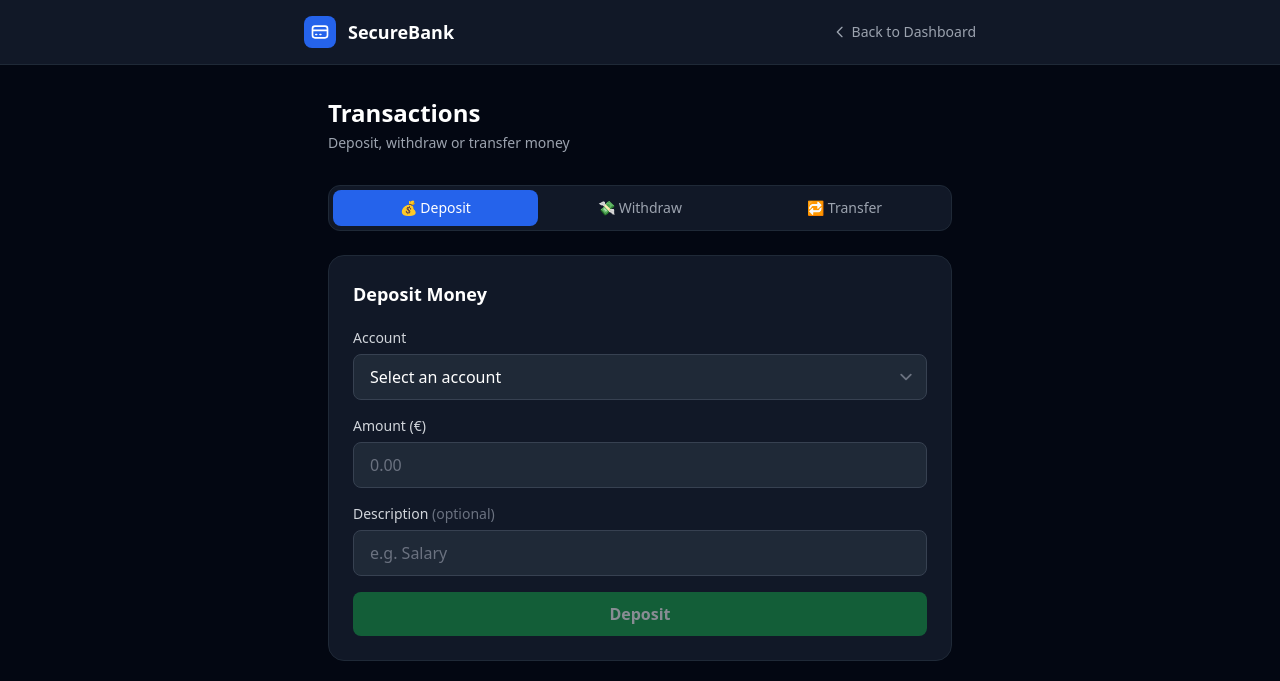
Test: Transfer page › shows an error when the receiver account is not found
Click the button with test id "transfer-tab".
click(845, 208)  # box [742,190,947,226]
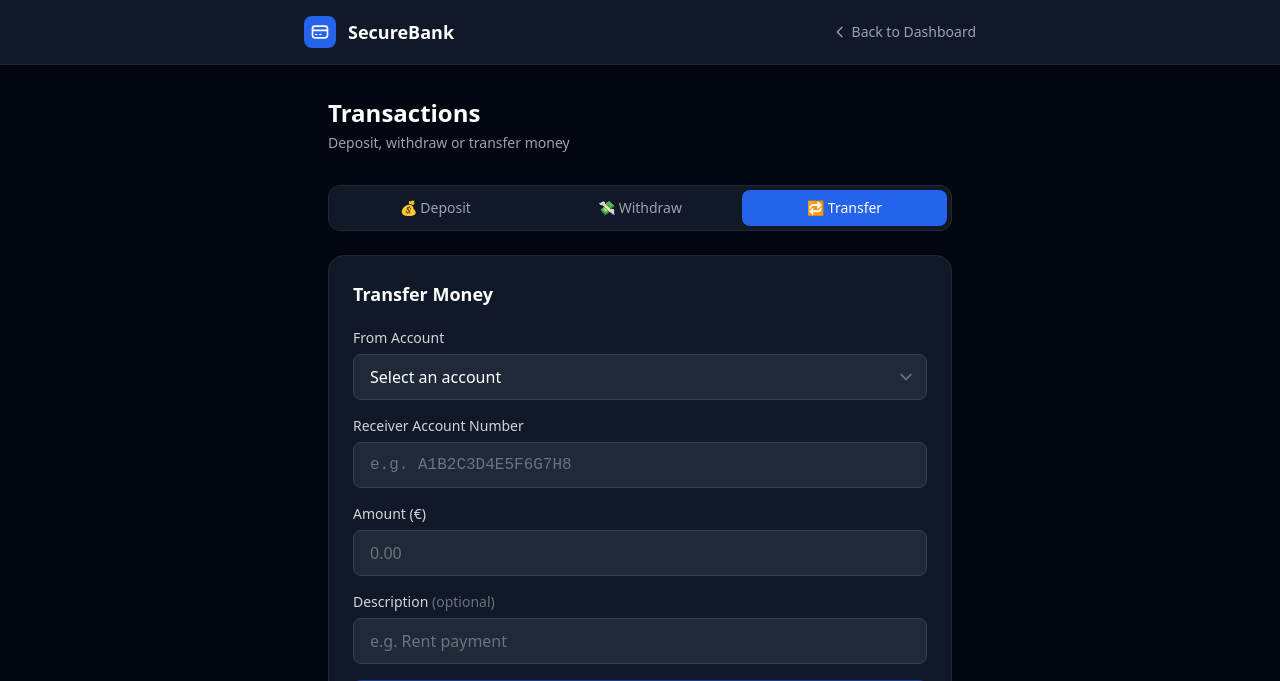
Select "CHECKING — ABCDEF1234567890 (€1,500.00)" in the dropdown with test id "transfer-account-select" at (640, 377), box [353,354,927,400]
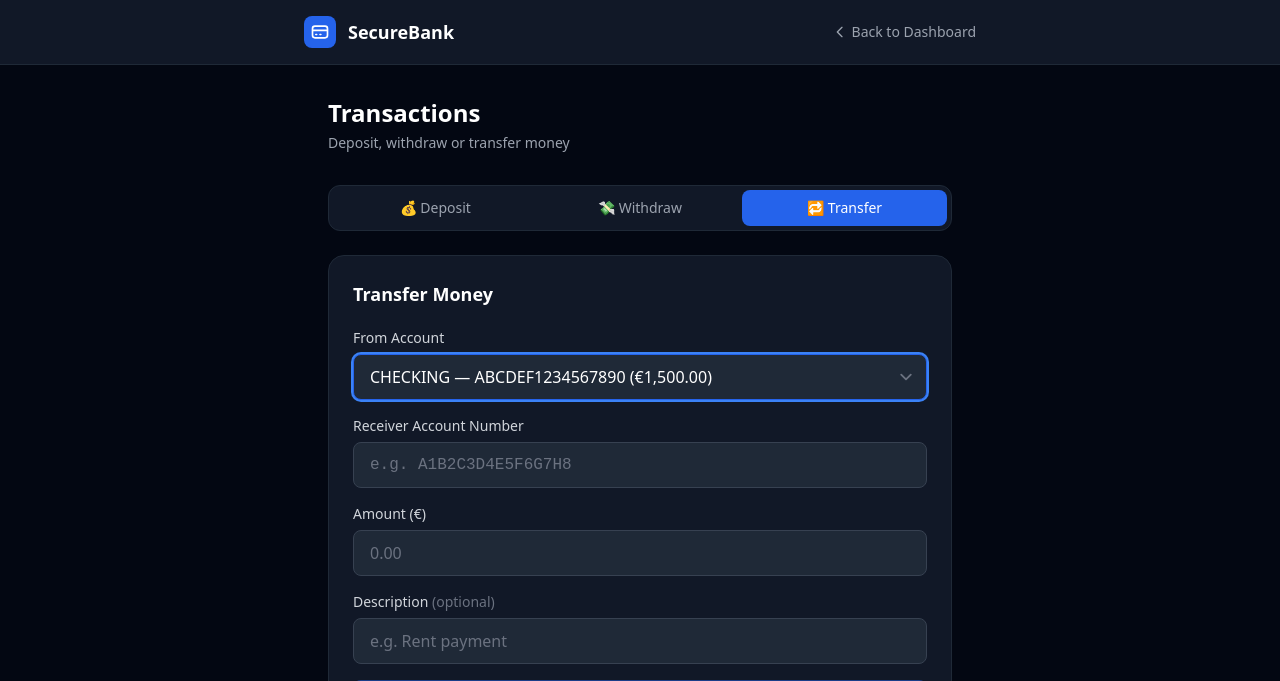
Type "AAAAAAAAAAAAAAAA" into the field with test id "transfer-receiver-input".
click(640, 465); type("AAAAAAAAAAAAAAAA")  # box [353,442,927,488]
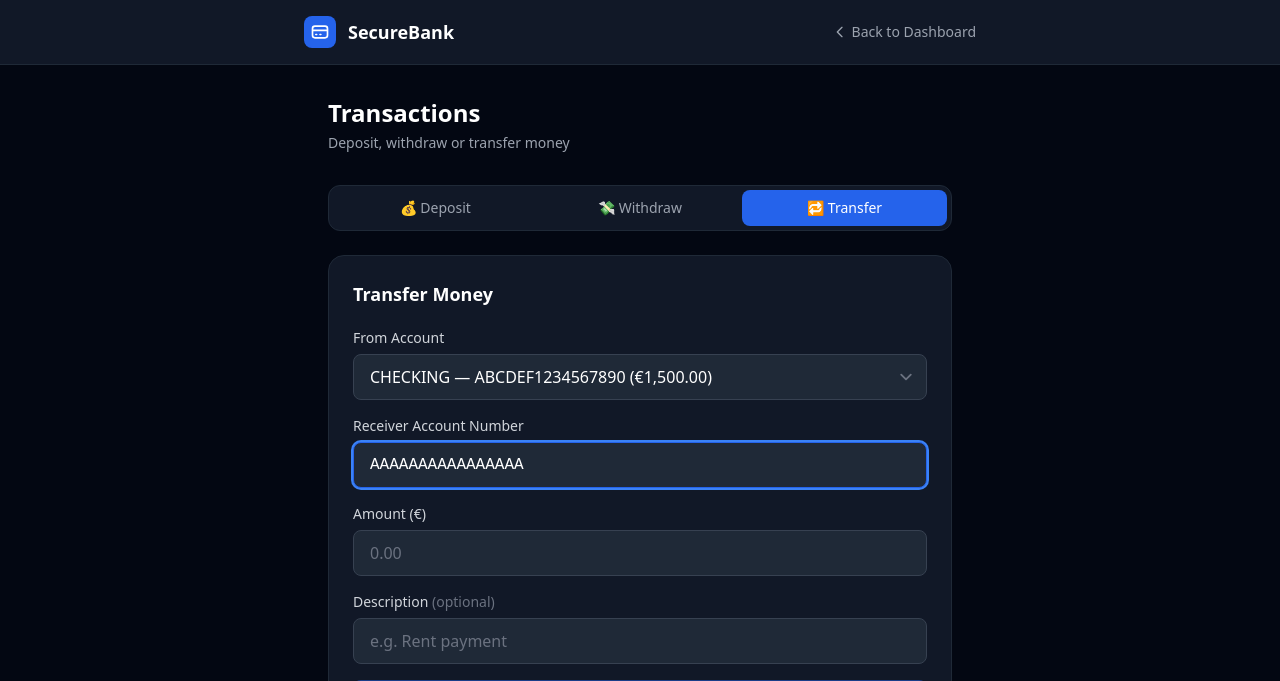
Type "50" into the number field with test id "transfer-amount-input".
click(640, 553); type("50")  # box [353,530,927,576]
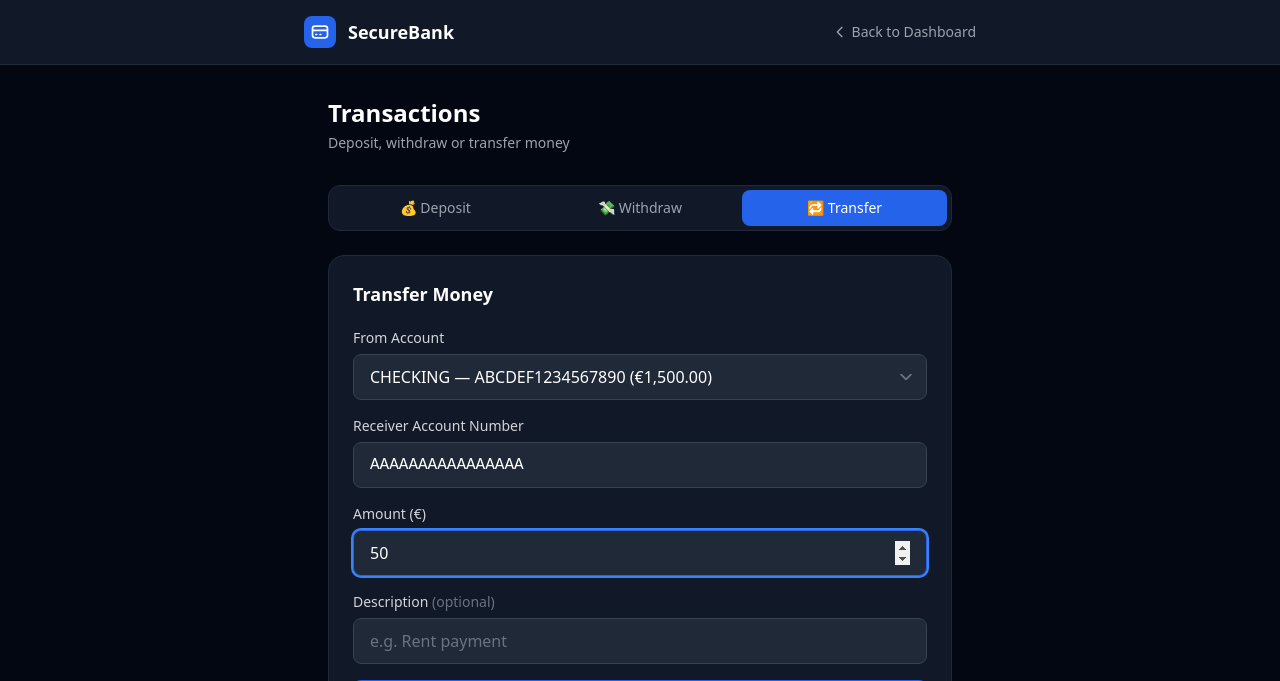
Scroll
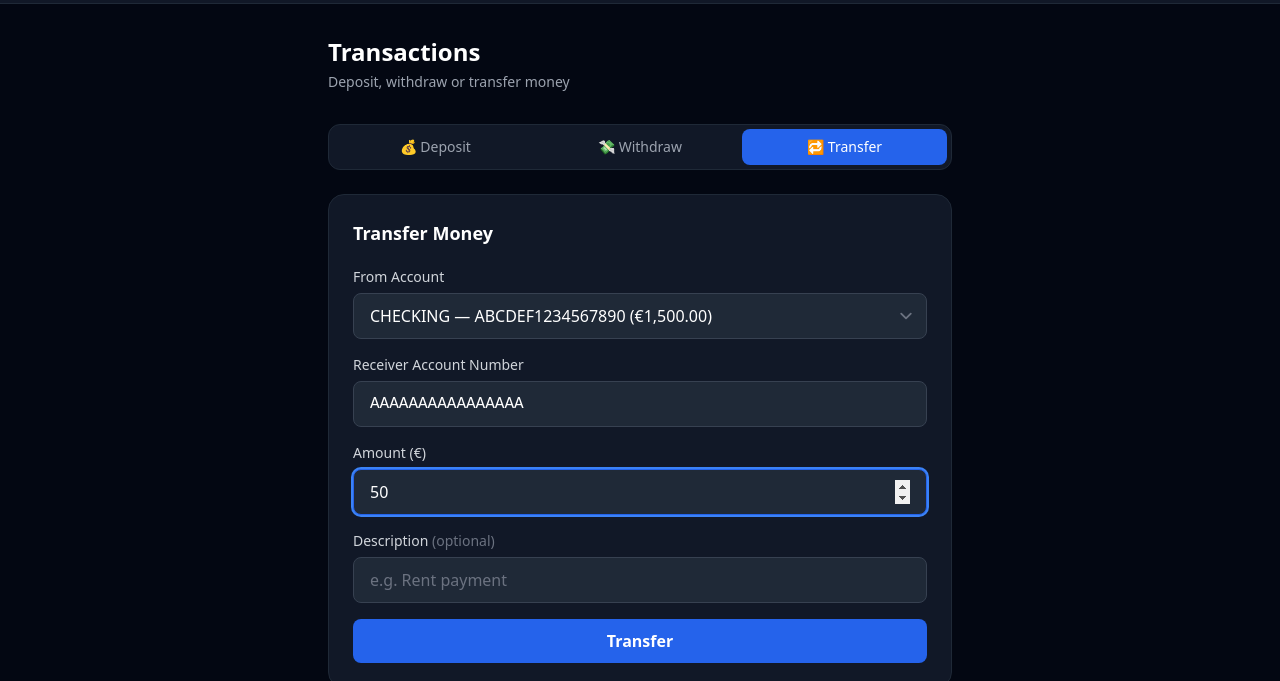
Click the button with test id "transfer-submit".
click(640, 641)  # box [353,619,927,663]
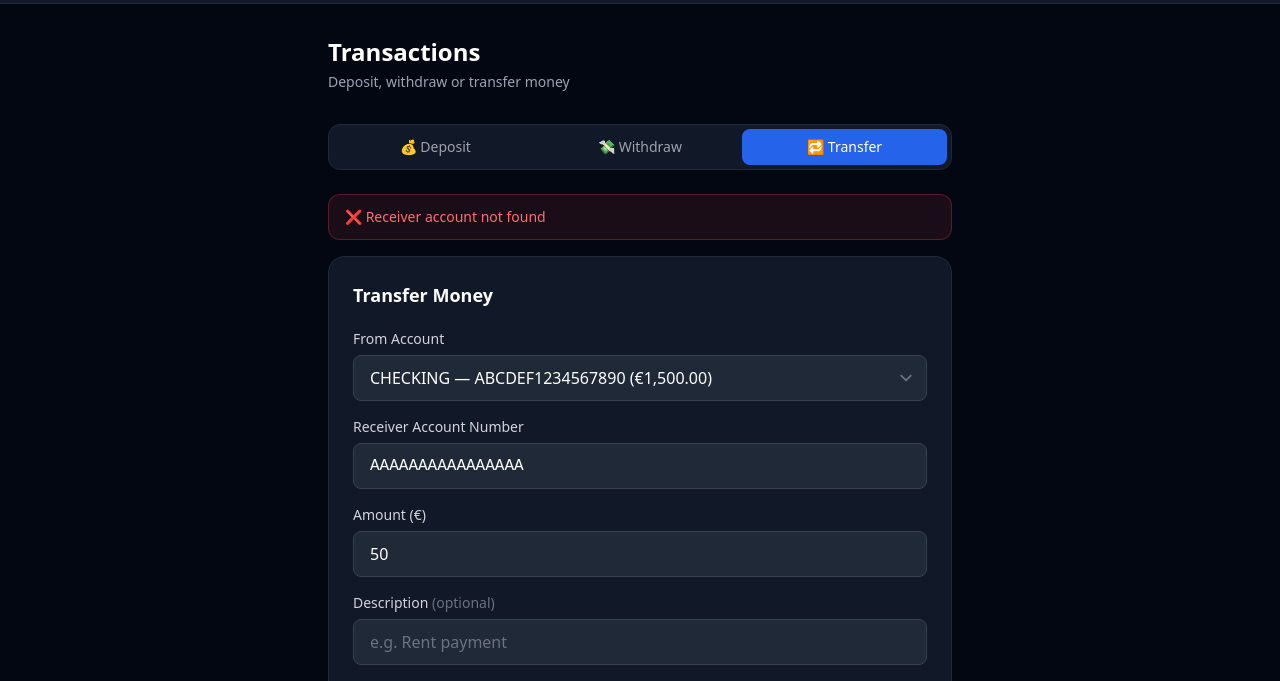
Expected: the text with test id "error-message" shows "Receiver account not found", [328,194,952,240]
